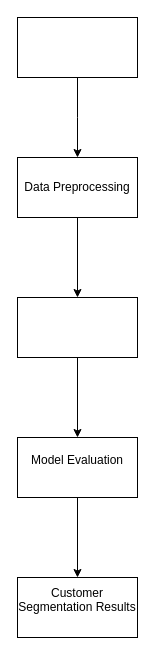
Image size: 155x661. Some labels were removed from this diagram. The shapes that lost their labels are listed below. From the top down, each one's centre as x and y in pixels, then its label:
At (77,47): "data collection".
At (77,327): "Clustering Model selection".
